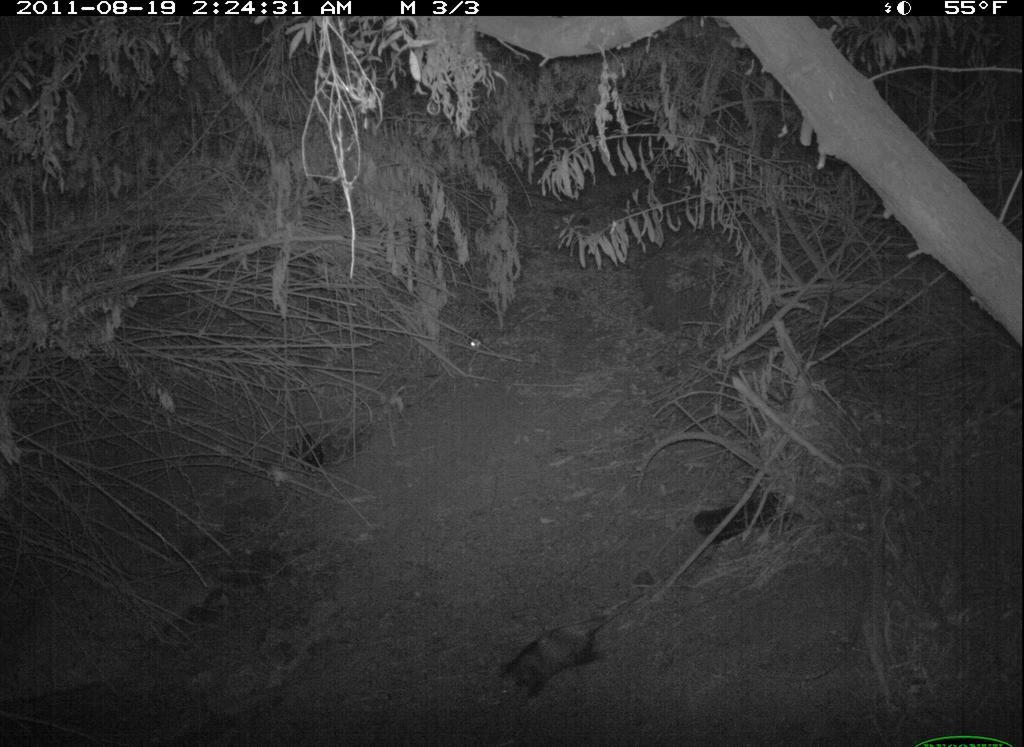opossum: (493, 578, 647, 715)
